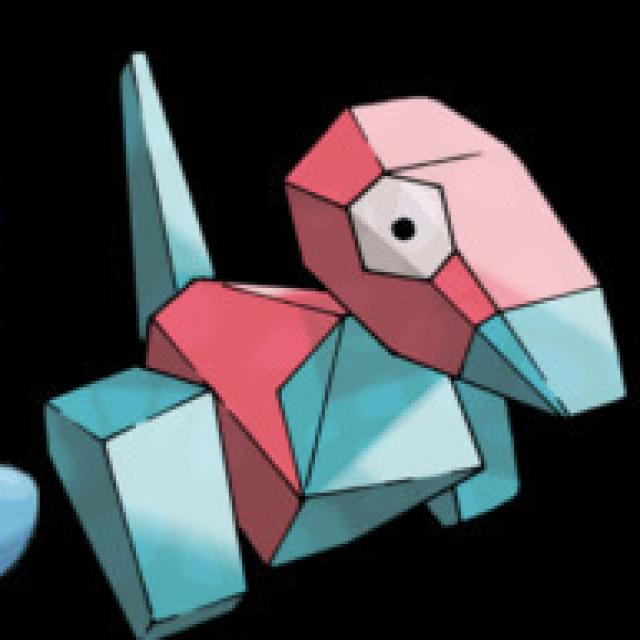Porygon: (85, 111, 597, 528)
